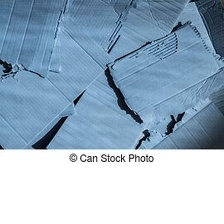book: (0, 4, 118, 152), (101, 19, 224, 128), (37, 53, 142, 152), (64, 0, 192, 79), (130, 90, 223, 152), (0, 0, 67, 79), (159, 0, 224, 57)
